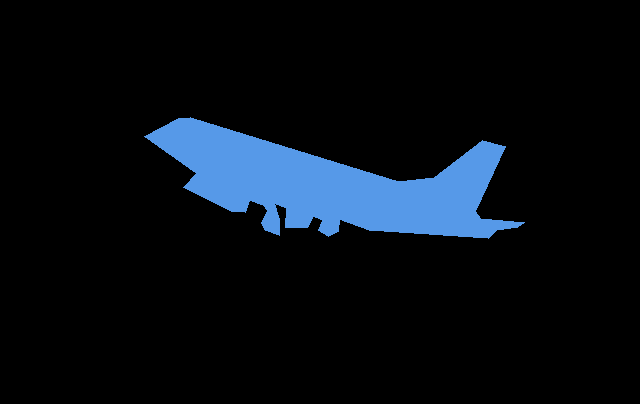Airplane: (144, 117, 525, 239)
